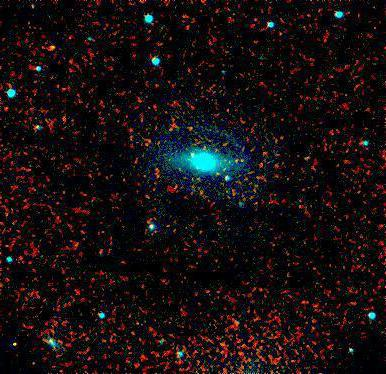star: (36, 33, 66, 63)
